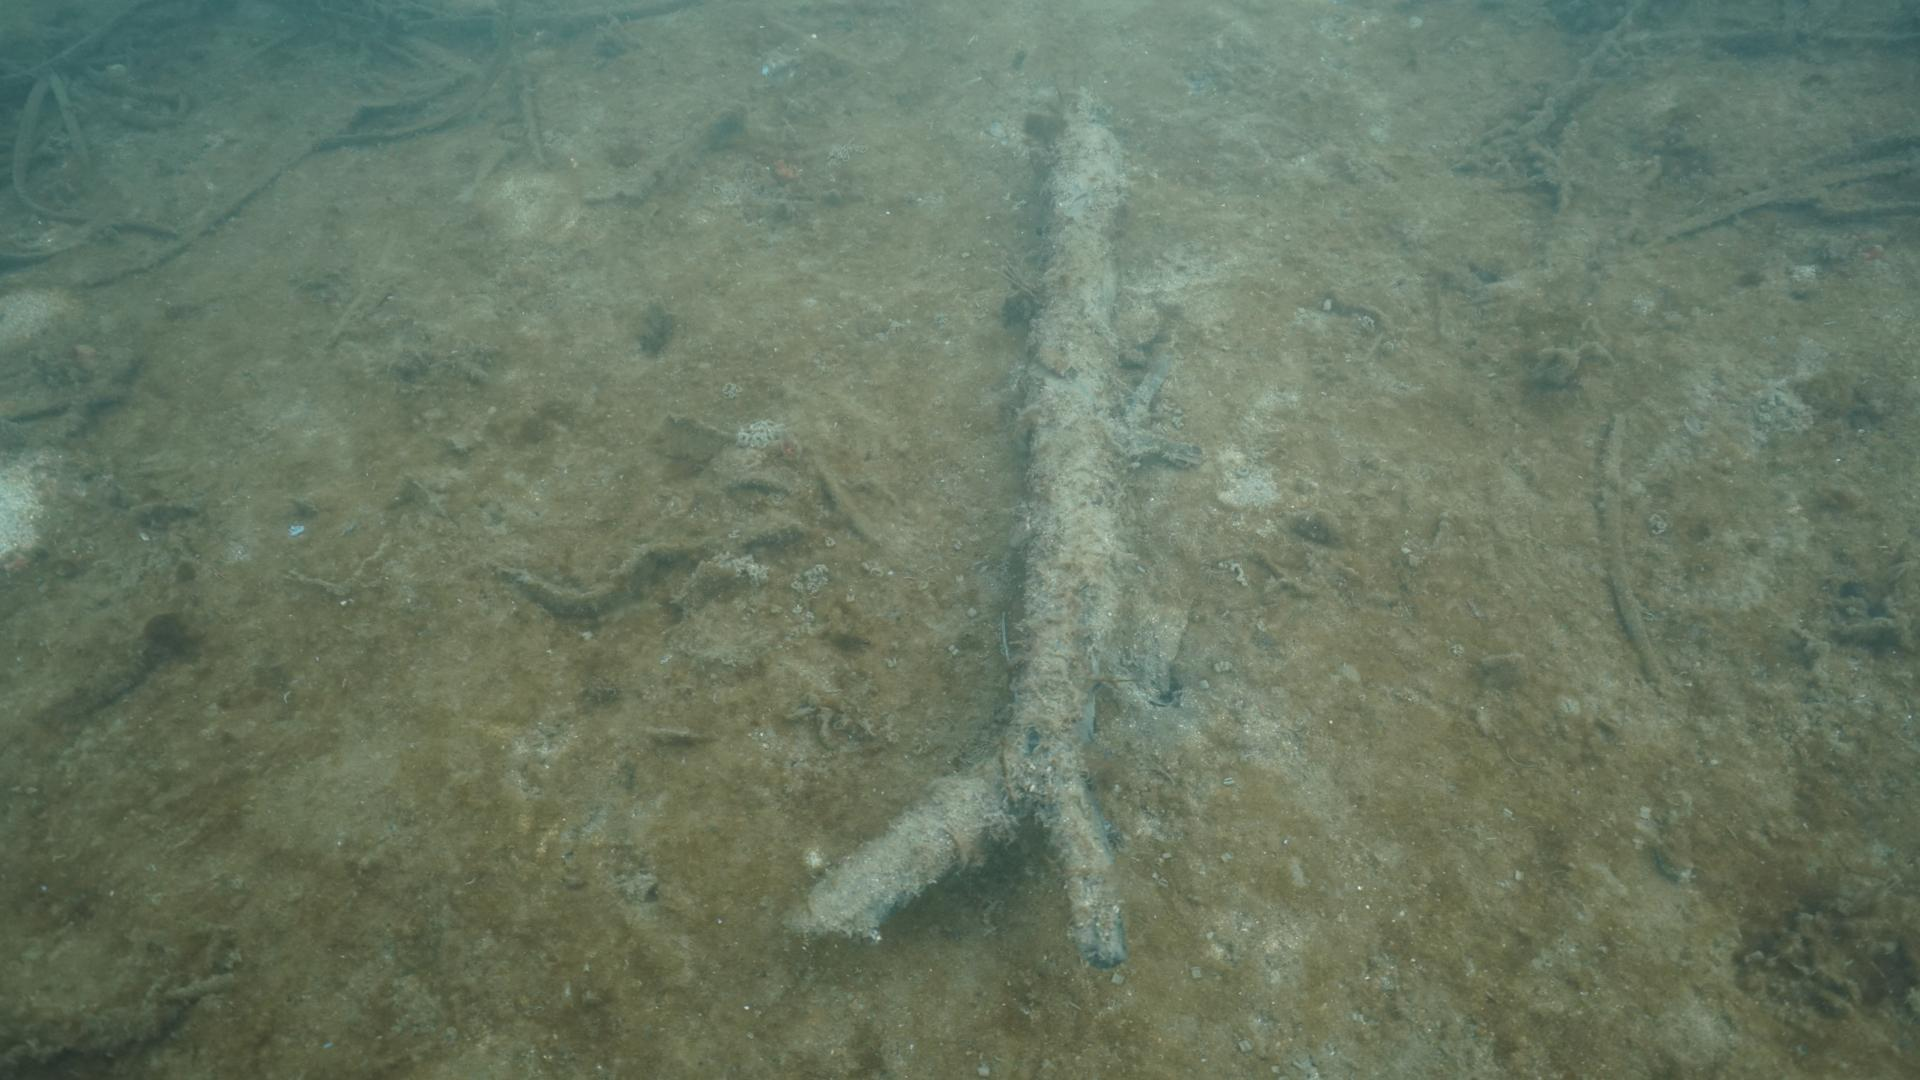wood: (781, 88, 1126, 969)
